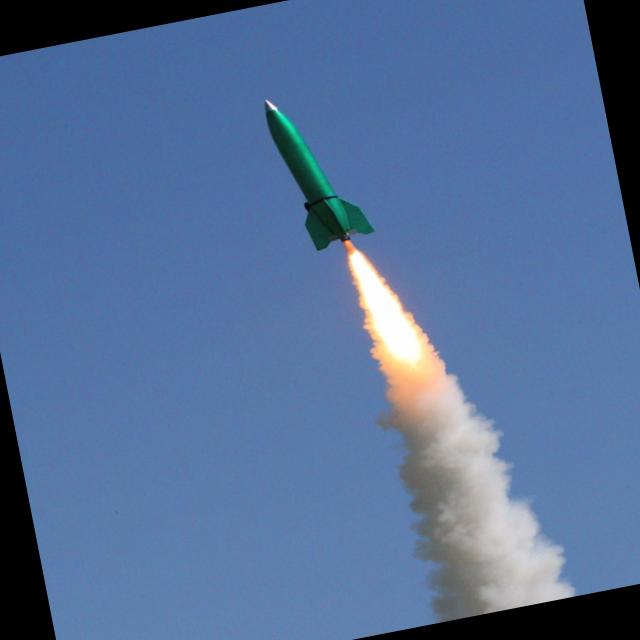rocket: (247, 75, 443, 391)
